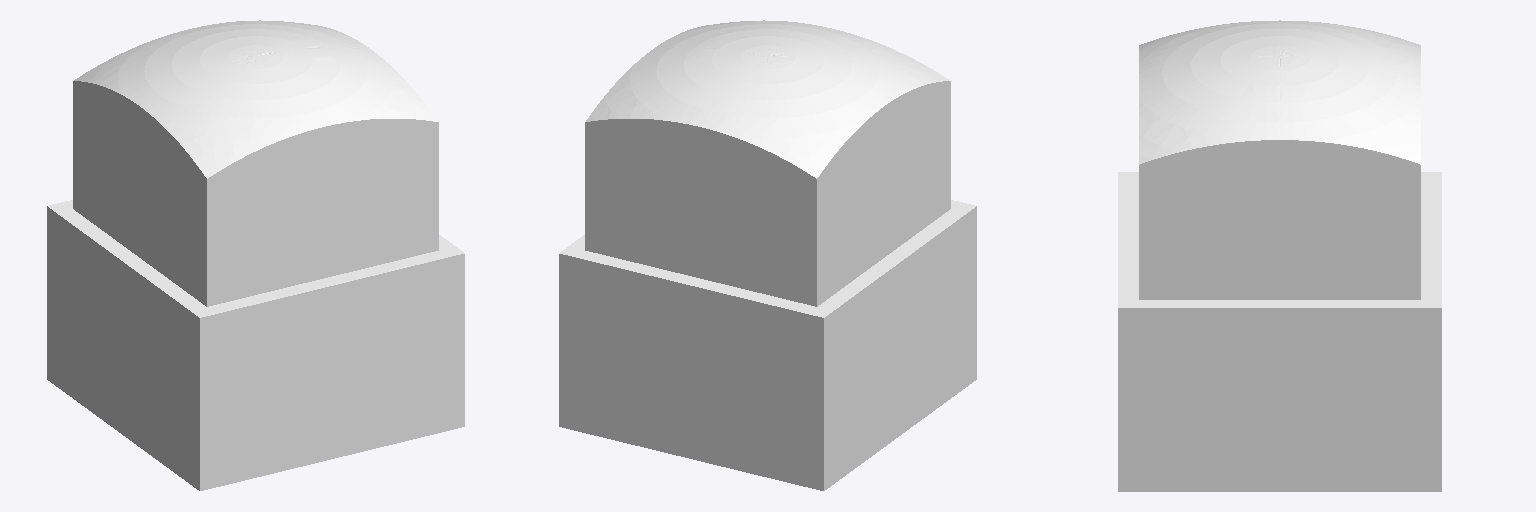
URDF robot description (curved_surface):
<robot name="curved_surface">
	<link name="_name">
		<visual>
			<origin rpy="0 0 0" xyz="8.772591790506957e-08 -1.2084370468973417e-10 -0.009503669569586285" />
			<geometry>
				<mesh filename="curved_surface.obj" scale=".001 .001 .001" />
			</geometry>
			<material name="texture">
				<color rgba="1.0 1.0 1.0 1.0" />
			</material>
		</visual>
		<collision>
			<geometry>
				<mesh filename="curved_surface_vhacd.obj" scale=".001 .001 .001" />
			</geometry>
		<origin rpy="0 0 0" xyz="8.772591790506957e-08 -1.2084370468973417e-10 -0.009503669569586285" /></collision>
		<inertial>
			<mass value="1.0" />
			<inertia ixx="1.0" ixy="0.0" ixz="0.0" iyy="1.0" iyz="0.0" izz="1.0" />
		</inertial>
	</link>
</robot>

--- Render facts (derived) ---
The picture shows the robot from 3 angles, left to right: view 1: azimuth 30°, elevation 25°; view 2: azimuth 150°, elevation 25°; view 3: azimuth 270°, elevation 25°; orthographic projection.
Robot: curved_surface — 1 links, 0 joints (none); root link _name; default pose: every joint at zero.
Visible links, largest first — view 1: _name; view 2: _name; view 3: _name.
Link boxes in pixels (left/top/right/bottom): _name: left=47, top=20, right=464, bottom=490; _name: left=559, top=20, right=976, bottom=490; _name: left=1118, top=20, right=1441, bottom=491.
Size in the robot's own frame: 0.016 by 0.016 by 0.02 metres.
Meshes: 1 distinct files referenced, 1 mesh visuals loaded (1 OBJ).